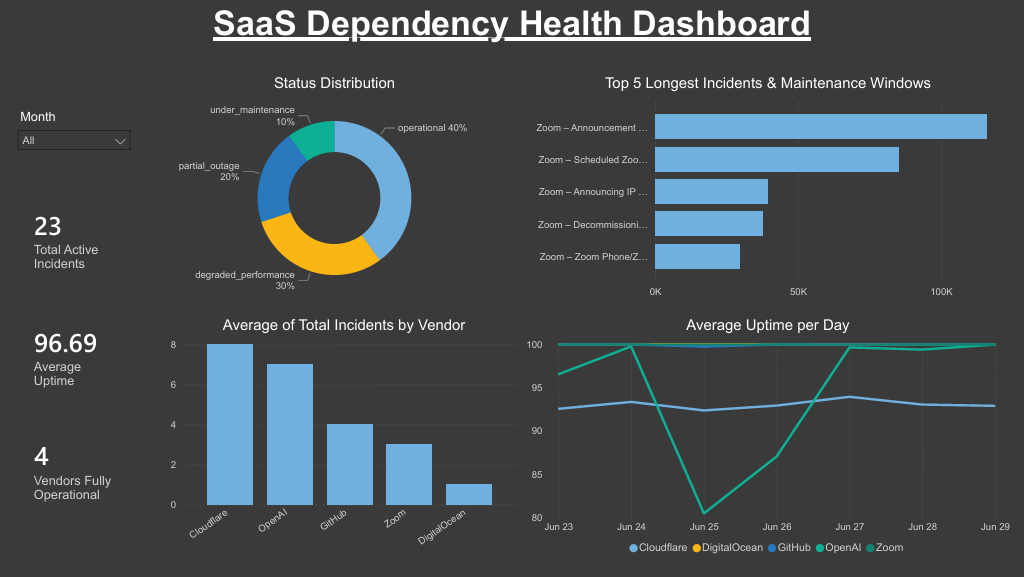

This screenshot's page, from the dashboard's own definition file:
{"tool":"powerbi","page":{"name":"Page 1","canvas":[1280,720],"ordinal":0},"visuals":[{"type":"cardVisual","fields":{"Data":["Sum(vendor_incident_metrics.total_incidents)"]},"box":[11.7,236.7,175,120],"z":0},{"type":"cardVisual","fields":{"Data":["Avg(uptime_daily.uptime_pct_excl_maintenance)"]},"box":[11.7,382.9,151.2,120],"z":1000},{"type":"cardVisual","fields":{"Data":["vendor_current_status.Vendors Fully Operational"]},"box":[11.7,525.4,175,120],"z":2000},{"type":"lineChart","title":"Average Uptime per Day","fields":{"Y":["Avg(uptime_daily.uptime_pct_excl_maintenance)"],"Category":["uptime_daily.date.Variation.Date Hierarchy.Year","uptime_daily.date.Variation.Date Hierarchy.Quarter","uptime_daily.date.Variation.Date Hierarchy.Month","uptime_daily.date.Variation.Date Hierarchy.Day"],"Series":["uptime_daily.vendor"]},"box":[651.7,395,616.7,308.3],"z":3000},{"type":"slicer","fields":{"Values":["uptime_daily.date.Variation.Date Hierarchy.Month"]},"box":[11.7,131.7,161.7,75],"z":4000},{"type":"columnChart","title":"Average of Total Incidents by Vendor","fields":{"Y":["Sum(vendor_incident_metrics.total_incidents)"],"Category":["vendor_incident_metrics.vendor"]},"box":[208.3,395,443.3,308.3],"z":5000},{"type":"donutChart","title":"Status Distribution","fields":{"Y":["CountNonNull(component_status_distribution.status)"],"Category":["component_status_distribution.status"]},"box":[208.3,93.3,420,286.7],"z":6000},{"type":"barChart","title":"Top 5 Longest Incidents & Maintenance Windows","fields":{"Category":["incident_summary.Incident Label"],"Y":["Sum(incident_summary.elapsed_minutes)"]},"box":[651.7,93.3,616.7,286.7],"z":6001},{"type":"textbox","box":[0,0,1280,68.3],"z":6002}]}

Visuals, with their boxes in screenshot pixels (x1, y1, x2, y2), scaled from the page's 1280x720 canvas onto the 1025x577 screenshot:
cardVisual - Sum(vendor_incident_metrics.total_incidents): (9, 190, 150, 286)
cardVisual - Avg(uptime_daily.uptime_pct_excl_maintenance): (9, 307, 130, 403)
cardVisual - vendor_current_status.Vendors Fully Operational: (9, 421, 150, 517)
"Average Uptime per Day" lineChart: (522, 317, 1016, 564)
slicer - uptime_daily.date.Variation.Date Hierarchy.Month: (9, 106, 139, 166)
"Average of Total Incidents by Vendor" columnChart: (167, 317, 522, 564)
"Status Distribution" donutChart: (167, 75, 503, 305)
"Top 5 Longest Incidents & Maintenance Windows" barChart: (522, 75, 1016, 305)
textbox: (0, 0, 1024, 55)
